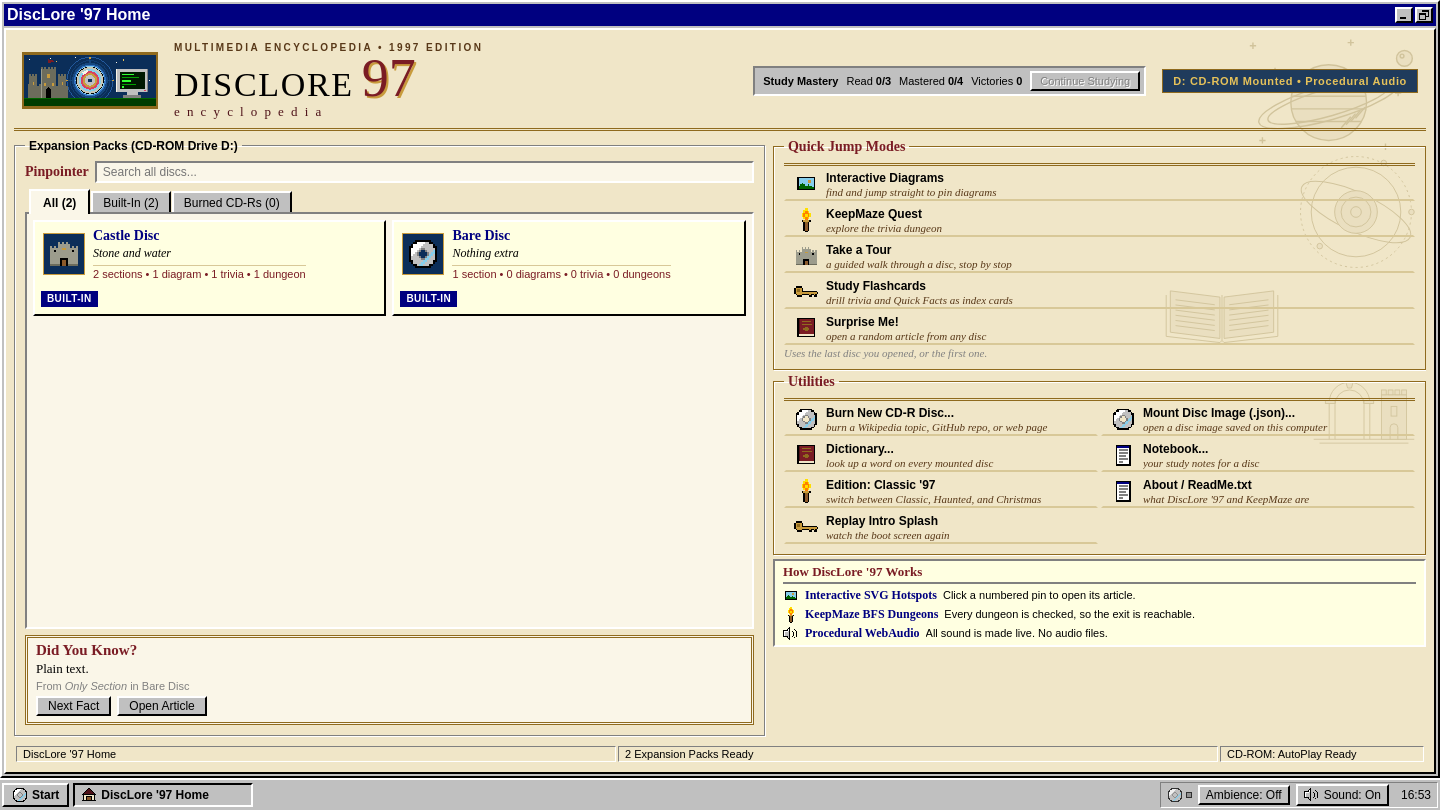
Test: Start menu › Mounted Discs is a submenu that opens any mounted disc and closes the menu
The width and height of the screenshot is (1440, 810).
What coordinates should you click on to do the following:
click the button with aria-label "Start menu"
I would click on:
 (36, 795)
Its box is [2,783,69,807].
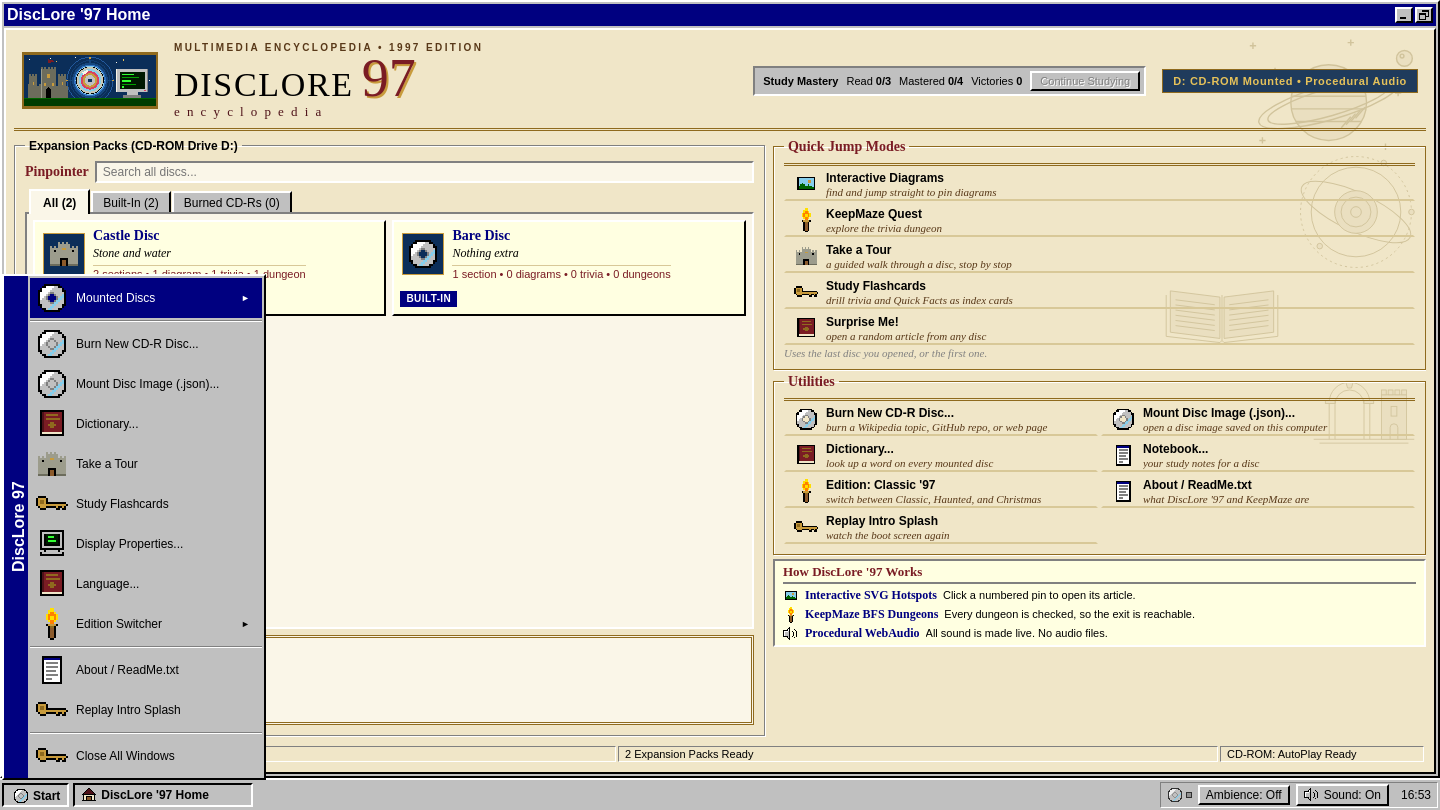
What coordinates should you click on to do the following:
click the menu item "Mounted Discs ►"
I would click on:
 (146, 298)
Its box is [30,278,262,318].
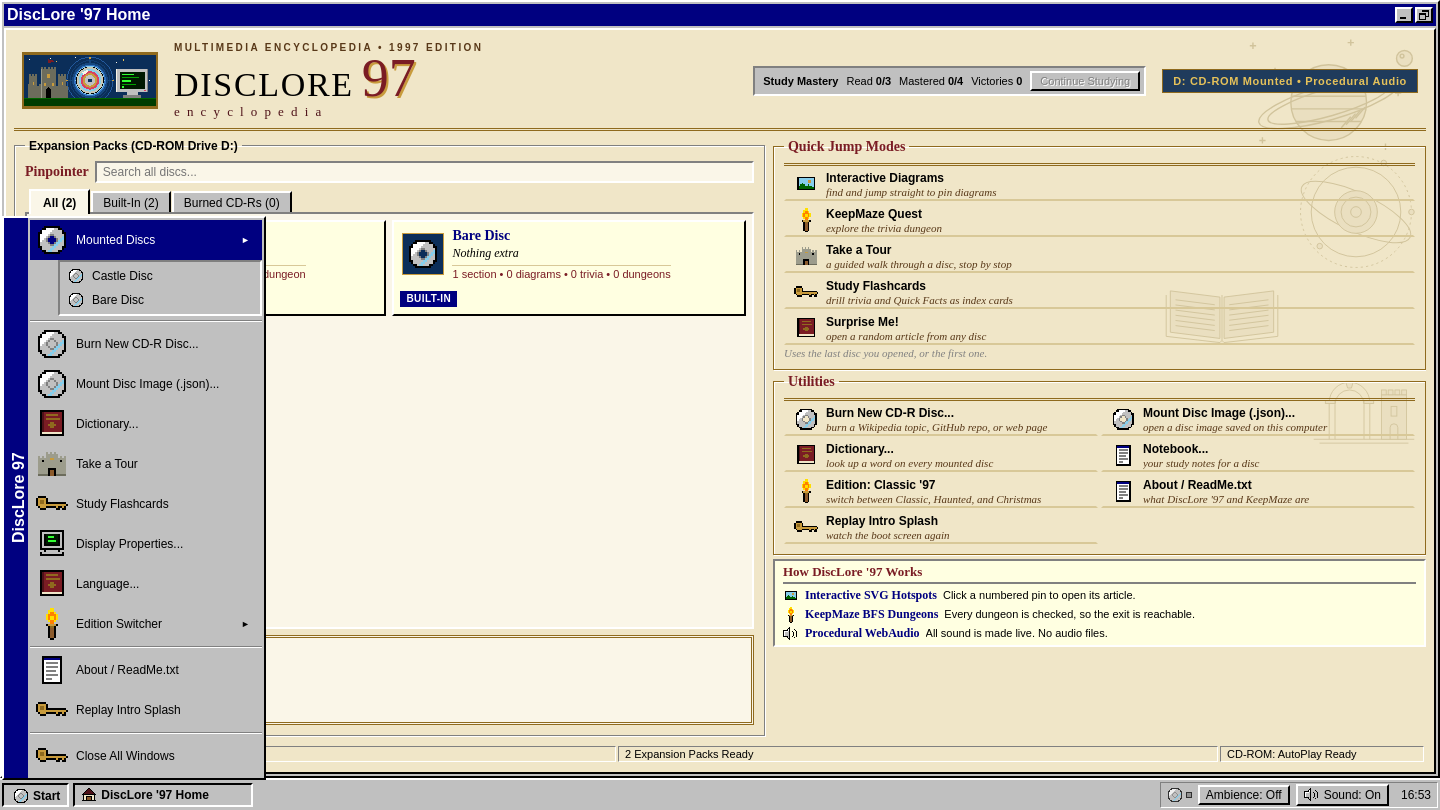
Now the menu item "Mounted Discs ►" is expanded, box [30,220,262,260]
Now the menu items read "Castle Disc", "Bare Disc", in this order
What coordinates should you click on to do the following:
click the menu item "Bare Disc"
I would click on:
 (160, 300)
Its box is [62,288,258,312].
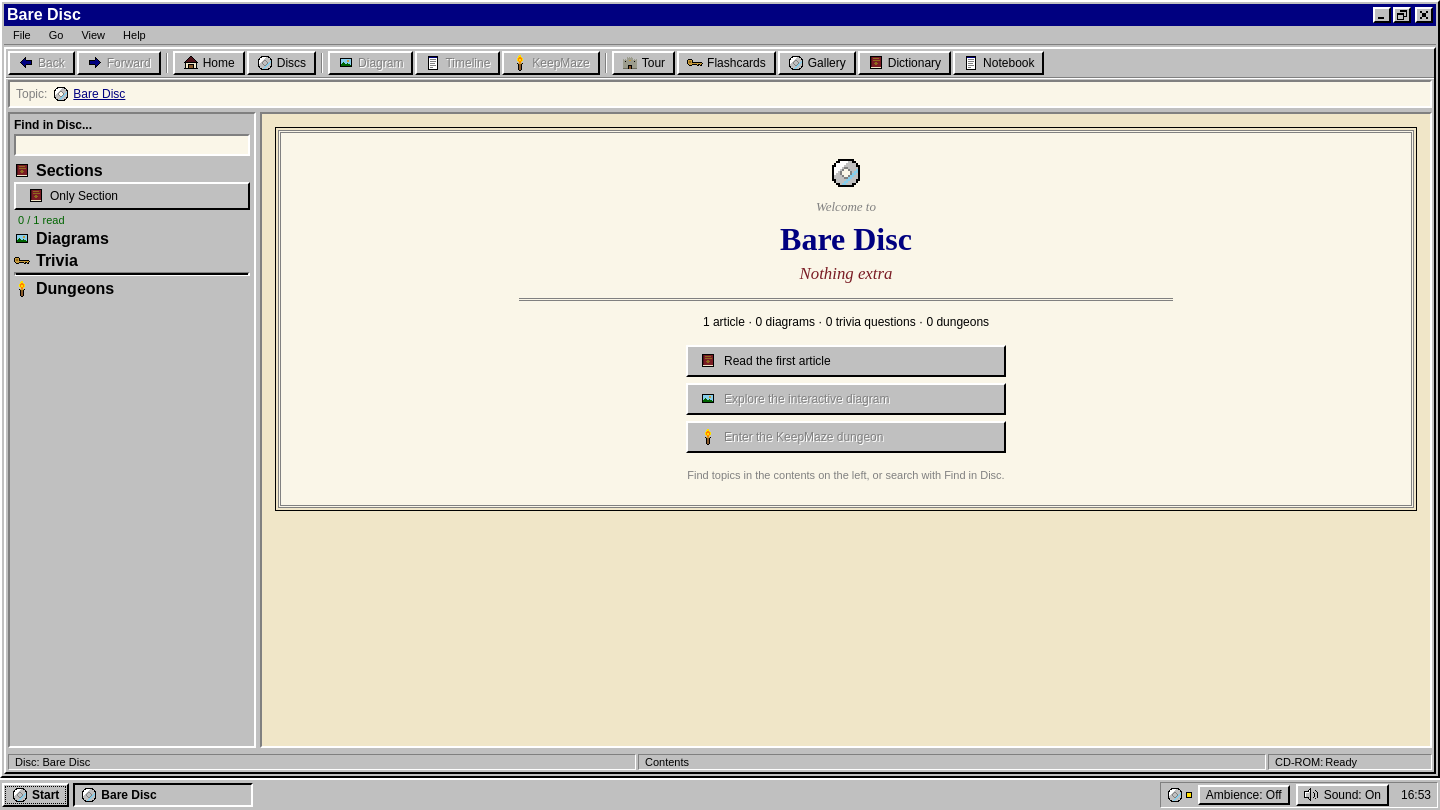
Now the menu item "Start menu" is gone
Now the navigation bar named "Bare Disc" is shown, box [104,112,256,748]
